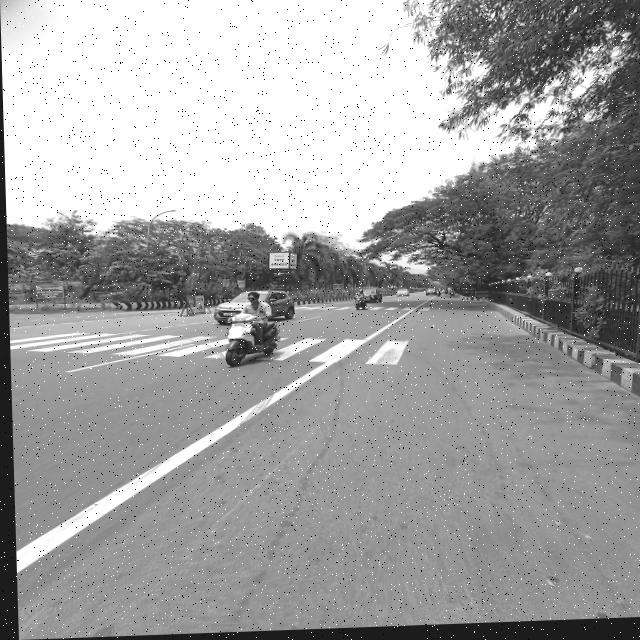bike: (212, 313, 290, 373), (350, 298, 371, 314), (449, 294, 453, 299)
car: (208, 289, 300, 326), (363, 290, 382, 306), (395, 290, 409, 302), (424, 291, 435, 299)
